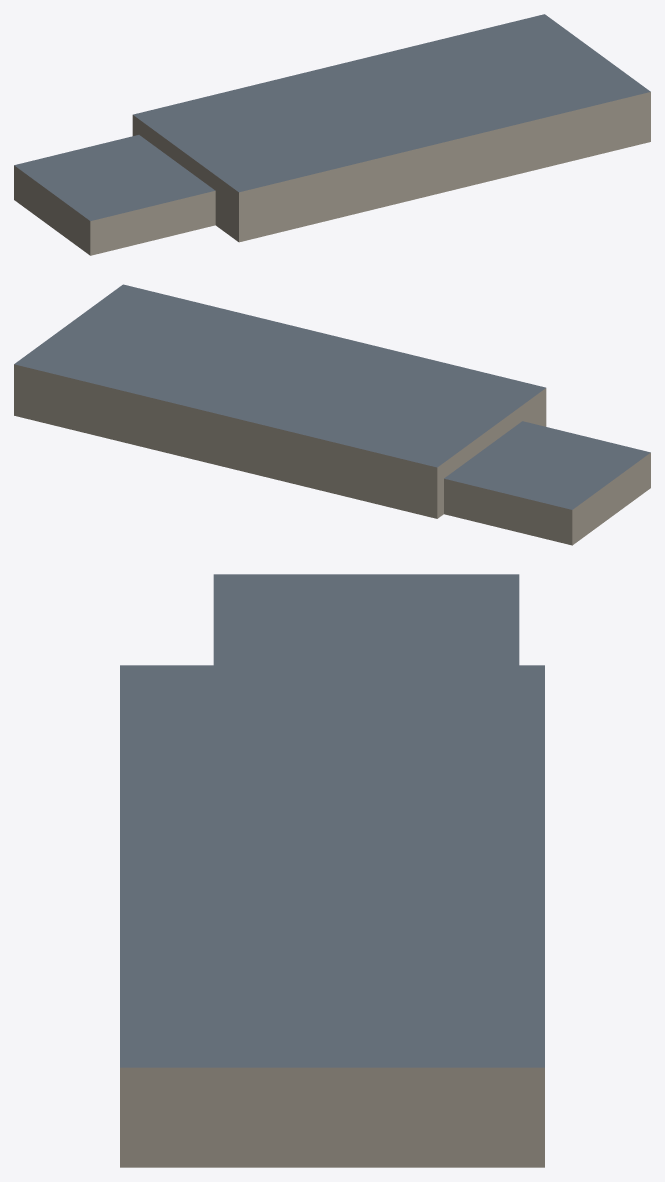
Rendered from library-low.glb.
3 renders of one model, top to bottom at view 1: azimuth 30°, elevation 25°; view 2: azimuth 150°, elevation 25°; view 3: azimuth 270°, elevation 25°, orthographic. The views are drawn at different scales.
Size of the model in its own units: 146 by 13 by 50.
